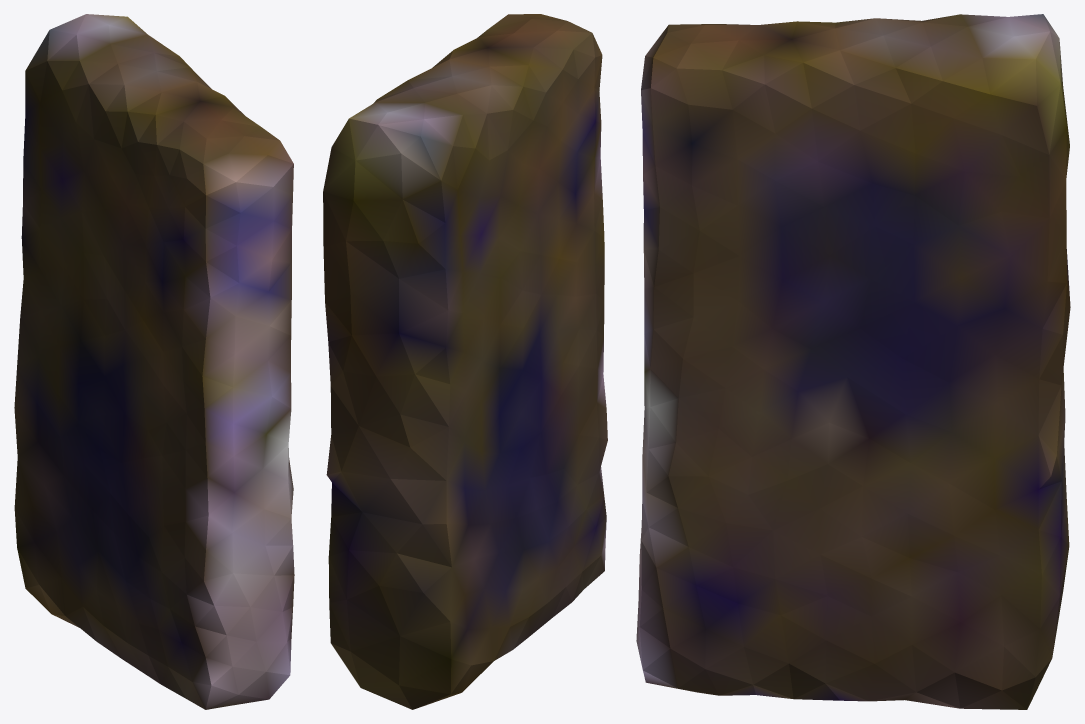
File: benq-box.dae
The picture shows the model from 3 angles, left to right: view 1: azimuth 30°, elevation 25°; view 2: azimuth 150°, elevation 25°; view 3: azimuth 270°, elevation 25°; orthographic projection. The views are drawn at different scales.
Visible parts, largest first — view 1: node; view 2: node; view 3: node.
Part boxes in pixels (box(x1,y1,x2,y2)): node: box(14, 14, 294, 709); node: box(323, 14, 607, 709); node: box(636, 14, 1070, 709).
Size of the model in its own units: 0.152 by 0.6628 by 0.3898.
